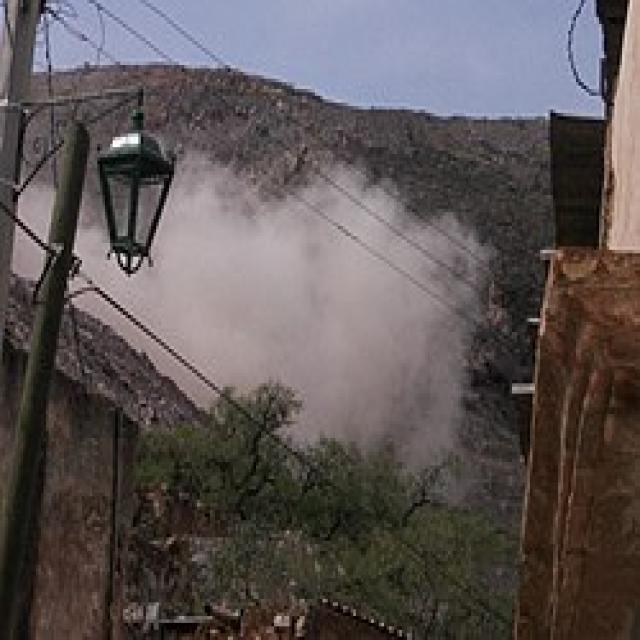explosion: (5, 97, 552, 552)
